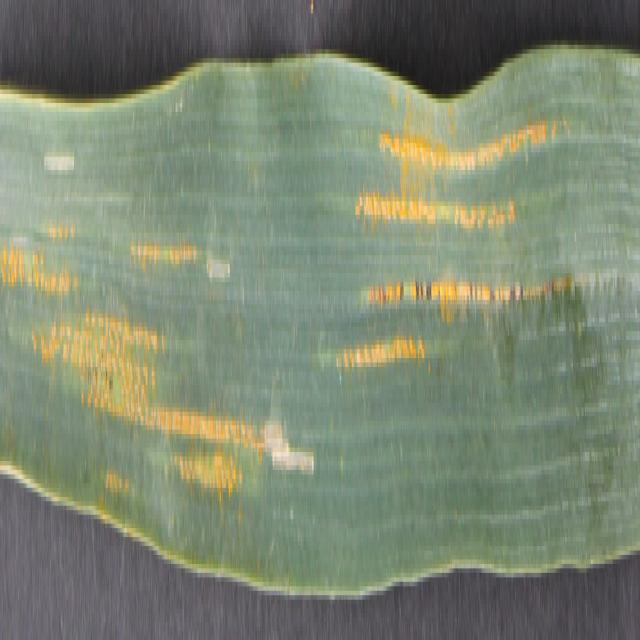leaf rust: (1, 126, 262, 586), (339, 71, 559, 448)
